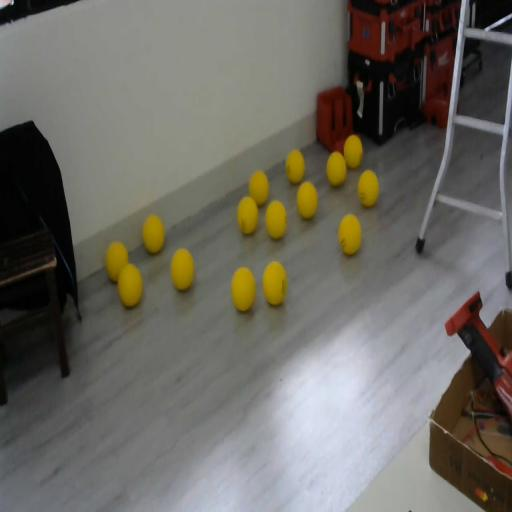FUEL: (169, 246, 196, 292), (230, 265, 256, 312), (262, 260, 288, 306), (104, 240, 130, 283), (338, 213, 362, 256), (264, 198, 288, 240), (141, 212, 165, 254), (296, 180, 318, 220), (357, 168, 379, 208), (248, 168, 270, 207), (237, 196, 258, 235), (326, 151, 347, 187), (285, 150, 305, 184), (343, 134, 363, 168)
